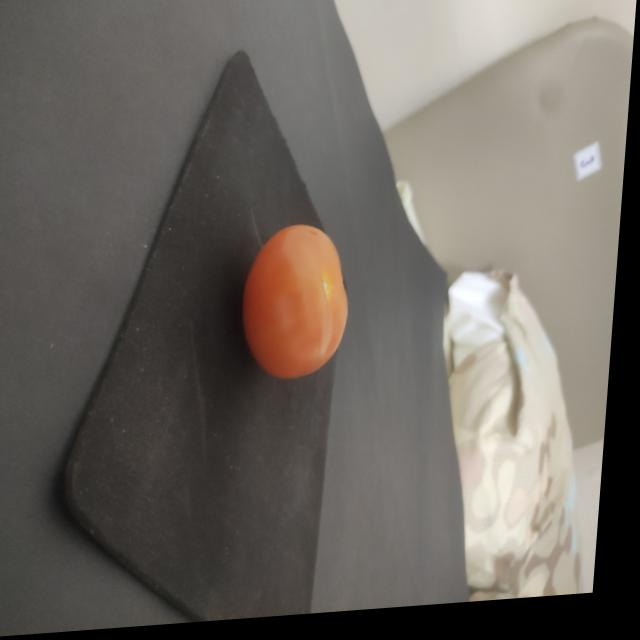sari: (227, 204, 384, 398)
